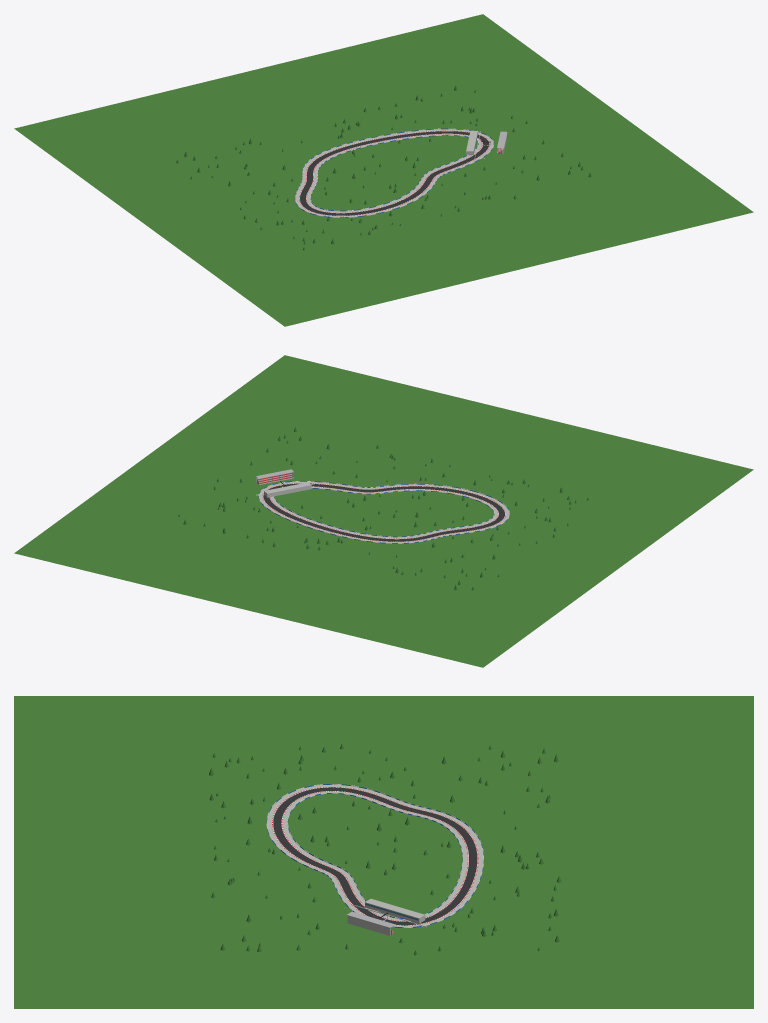
File: f1_world.glb
The picture shows the model from 3 angles, top to bottom: view 1: azimuth 30°, elevation 25°; view 2: azimuth 150°, elevation 25°; view 3: azimuth 270°, elevation 25°; orthographic projection. The views are drawn at different scales.
Visible parts, largest first — view 1: Ground, Road, Runoff_-1, Runoff_1, Barrier_Outer; view 2: Ground, Road, Runoff_-1, Runoff_1, Barrier_Outer, Barrier_Inner; view 3: Ground, Road, Runoff_-1, Runoff_1, Barrier_Outer, Kerb_-1, Kerb_1, Pit_Building, Barrier_Inner.
Boxes of the visible parts, x1,y1,x2,y2 form: Ground: (14, 14, 753, 326); Road: (300, 131, 489, 215); Runoff_-1: (295, 129, 493, 217); Runoff_1: (307, 134, 482, 212); Barrier_Outer: (295, 128, 493, 217); Ground: (14, 355, 753, 667); Road: (263, 483, 504, 541); Runoff_-1: (259, 481, 509, 542); Runoff_1: (270, 486, 497, 538); Barrier_Outer: (258, 481, 509, 543); Barrier_Inner: (274, 487, 494, 537); Ground: (14, 696, 753, 1008); Road: (273, 787, 477, 925); Runoff_-1: (267, 784, 483, 927); Runoff_1: (282, 791, 467, 921); Barrier_Outer: (266, 784, 483, 927); Kerb_-1: (272, 787, 478, 925); Kerb_1: (281, 791, 468, 921); Pit_Building: (365, 898, 425, 923); Barrier_Inner: (287, 793, 462, 918).
Bounding box in the file's own units: 1000 × 13.64 × 1000.
